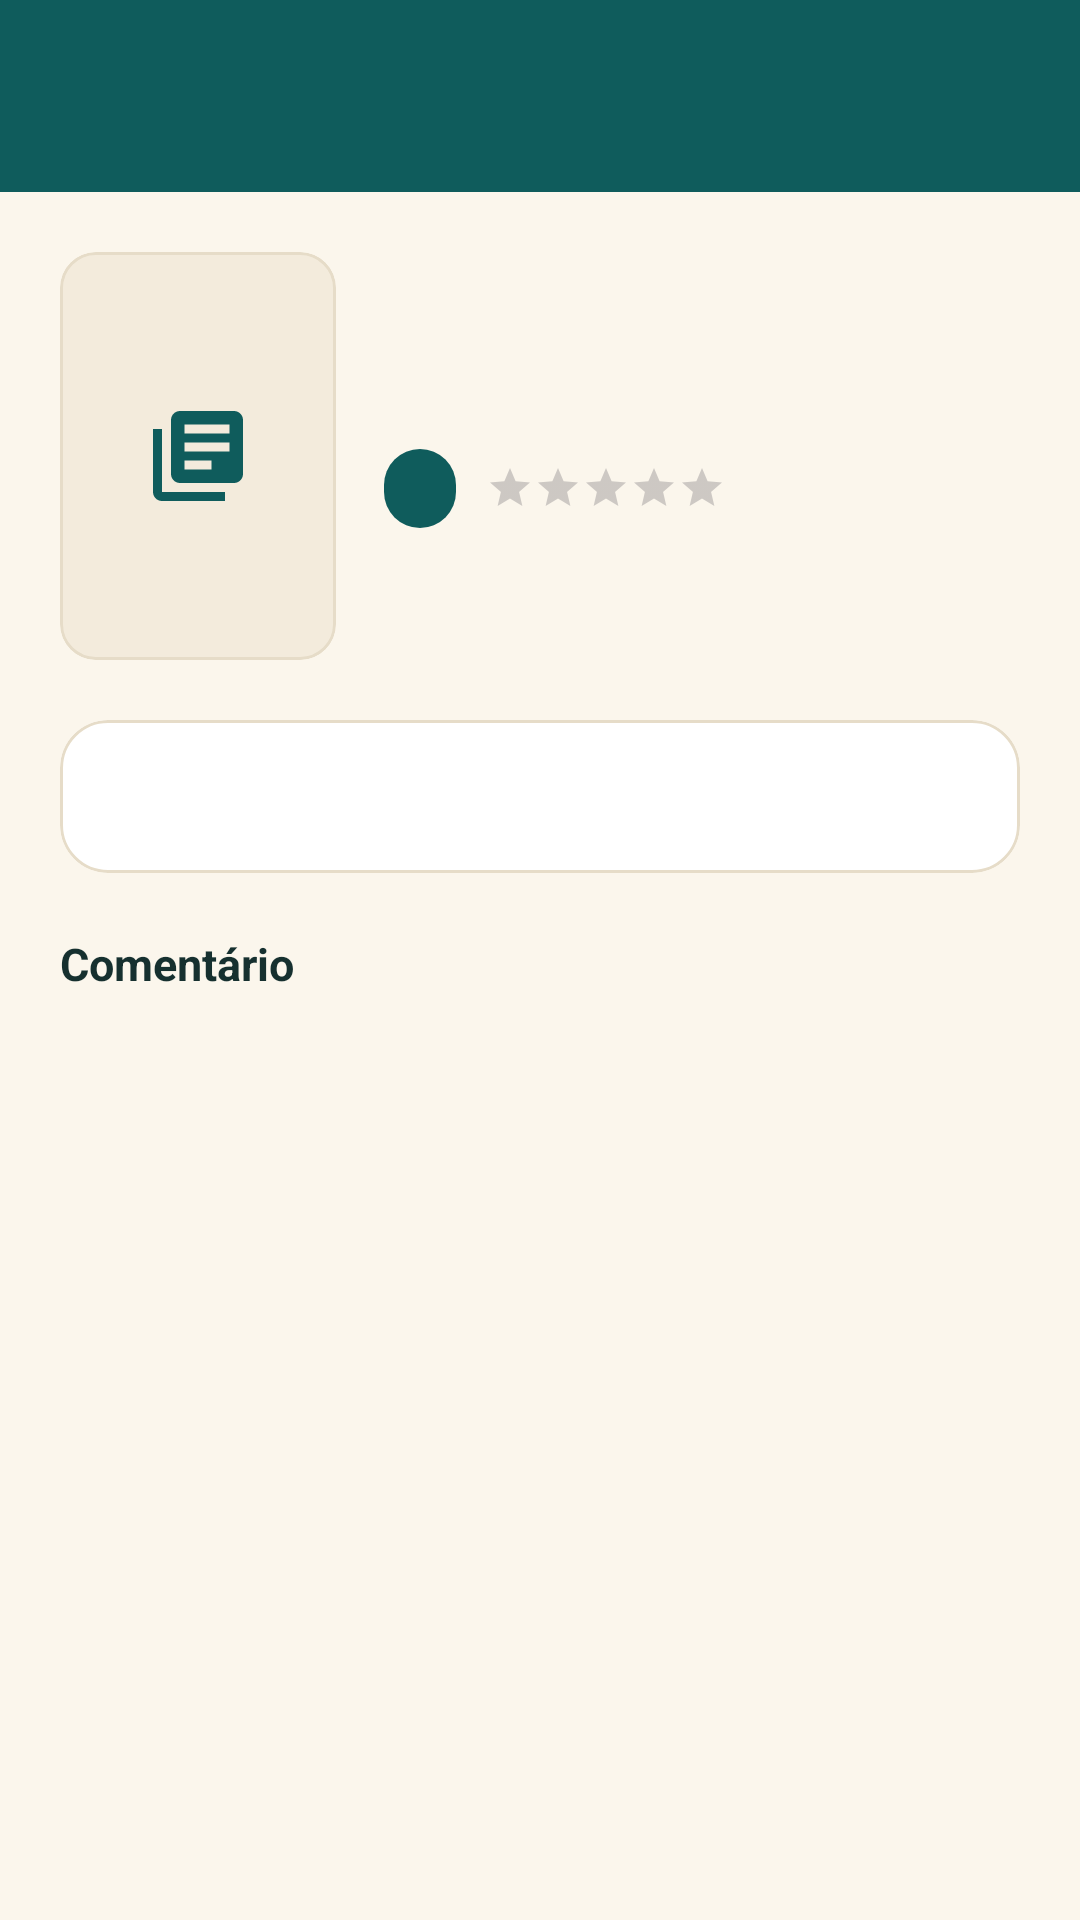

Named icons in this screenshot (1080w x 1920h) and their centers, [x,y]:
estante: [198,456]
